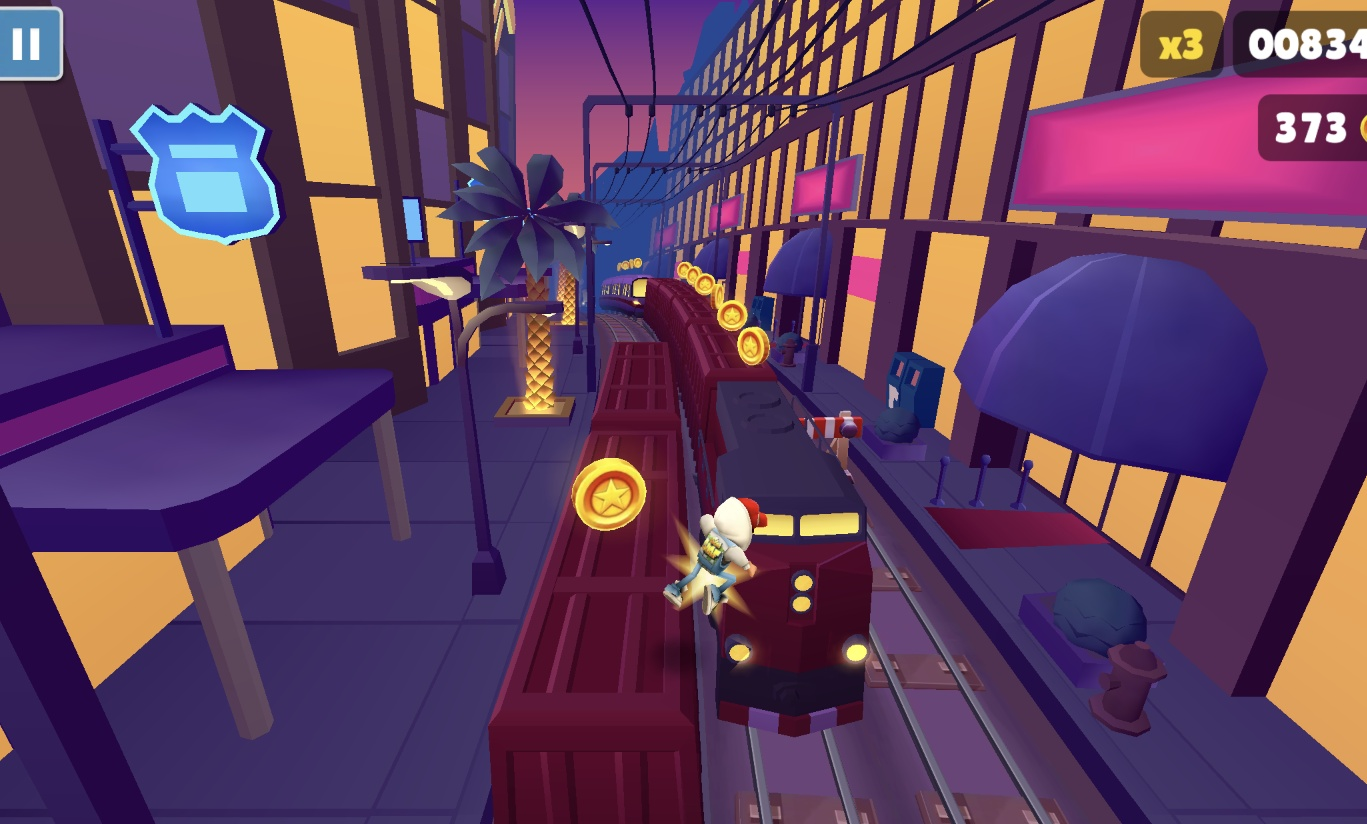ground_barrier: (797, 414, 864, 479)
train: (645, 277, 875, 739), (488, 341, 705, 824), (598, 275, 647, 317)
